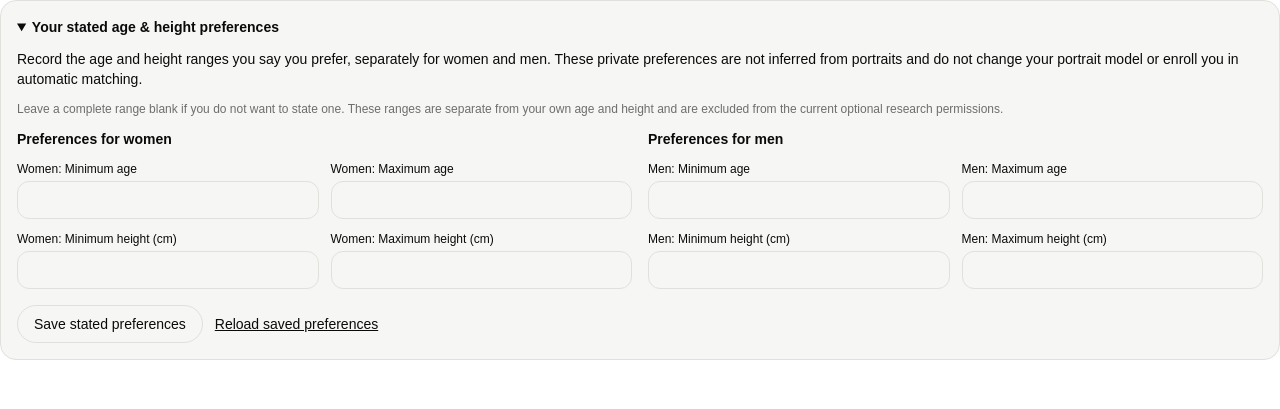
it: an unconfirmed preference save blocks replay until reload and never changes research permissions
What coordinates should you click on to do the following:
click the button "Save stated preferences"
I would click on:
 (110, 324)
Its box is [17,305,203,343].
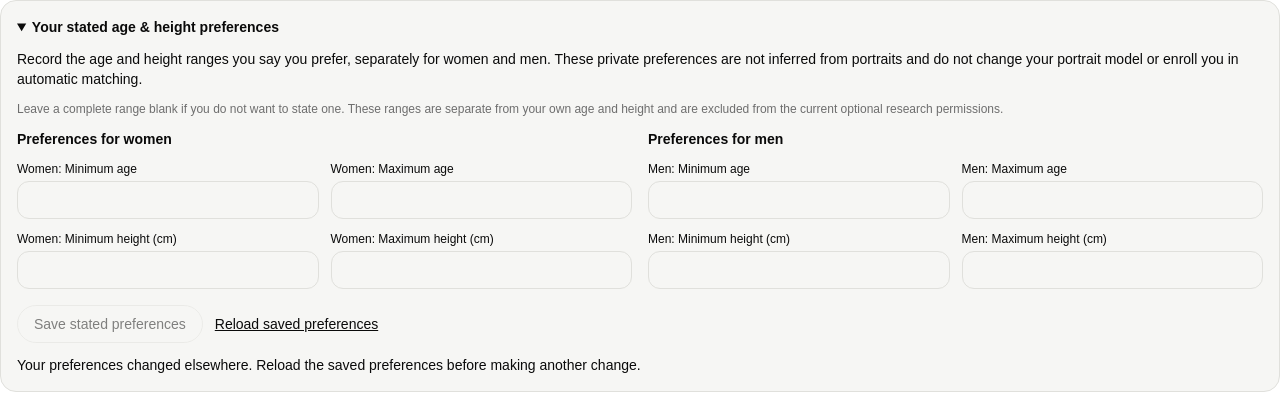
expect the button "Save stated preferences" is disabled: met, box [17,305,203,343]
expect the text "changed elsewhere" is shown: met, box [17,357,641,373]
What coordinates should you click on to do the following:
click the button "Reload saved preferences"
I would click on:
 (296, 324)
Its box is [215,314,378,334].
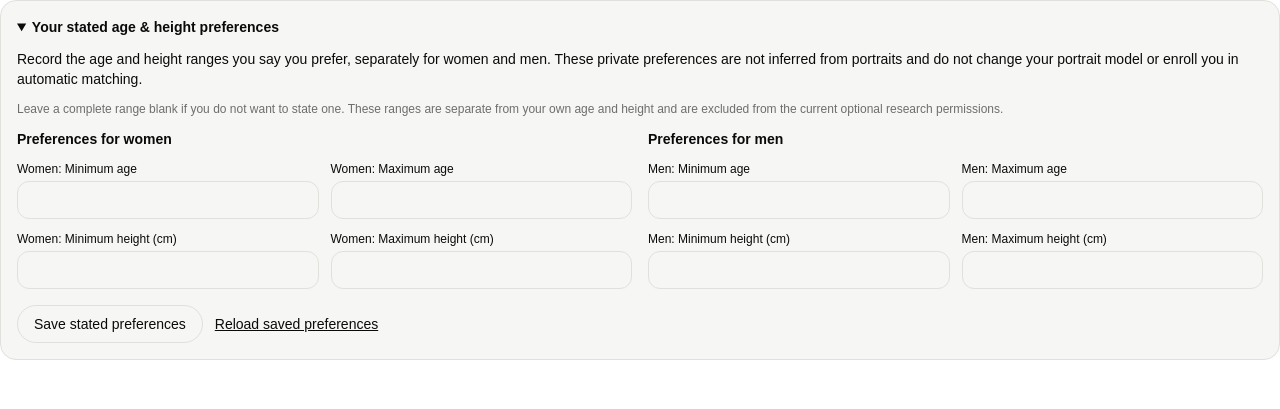
expect the button "Save stated preferences" is enabled: met, box [17,305,203,343]
